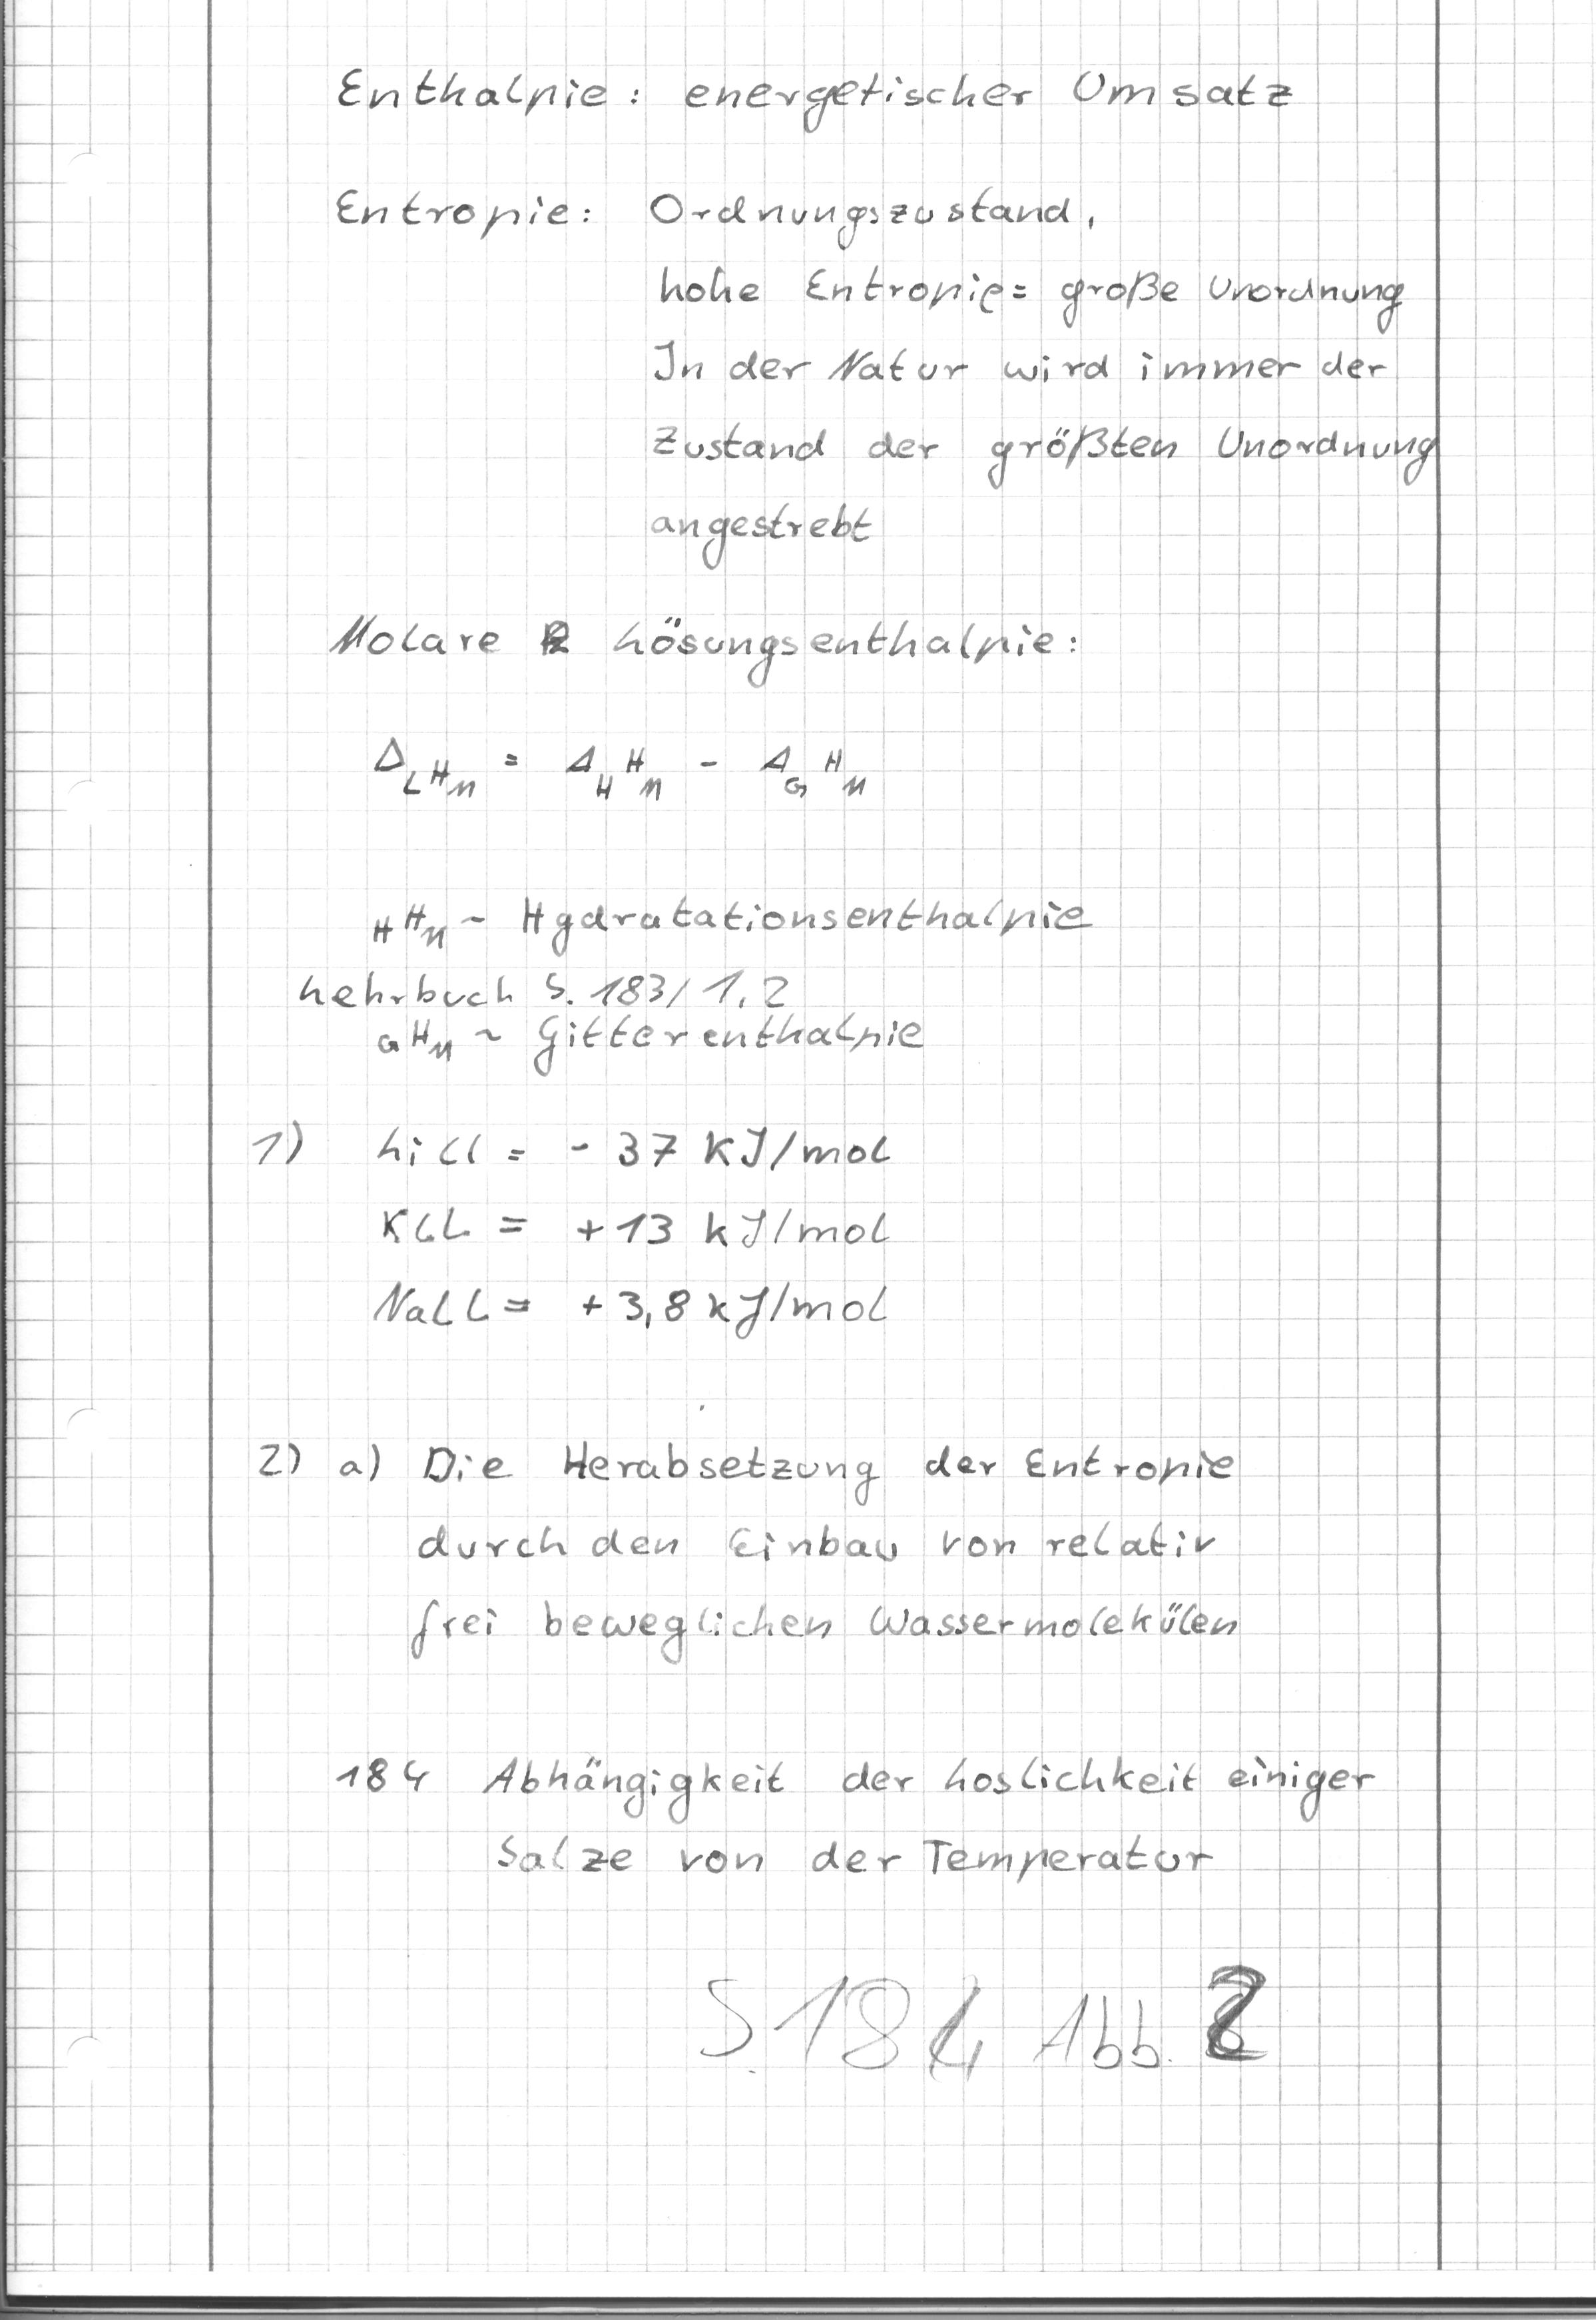word: (638, 182, 1456, 579), (394, 1430, 1253, 1673), (244, 1107, 914, 1359), (327, 1745, 1380, 1894), (316, 40, 1305, 144), (288, 961, 942, 1089), (312, 592, 1093, 696), (361, 881, 1105, 964), (353, 715, 881, 823), (320, 164, 611, 259), (237, 1424, 398, 1502)
